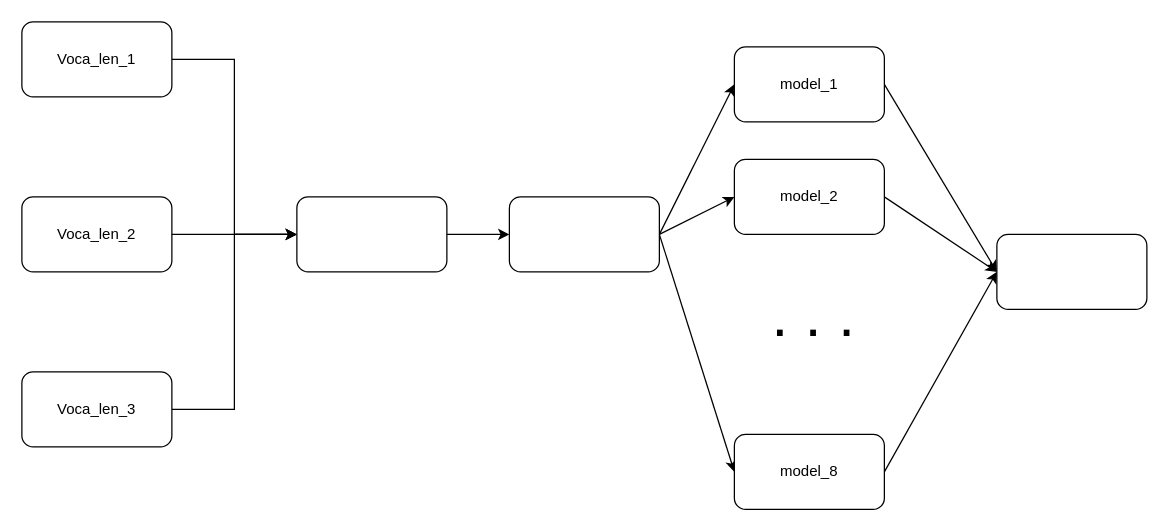
This 1169x531 diagram has some shape labels left out. The shapes that lost their labels are listed below. From the top down, each one's centre as x and y in pixels, then its label:
the point at 371,234: common preprocessing
the point at 583,234: multiplexer
the point at 1071,271: Visualization and Evaluation
